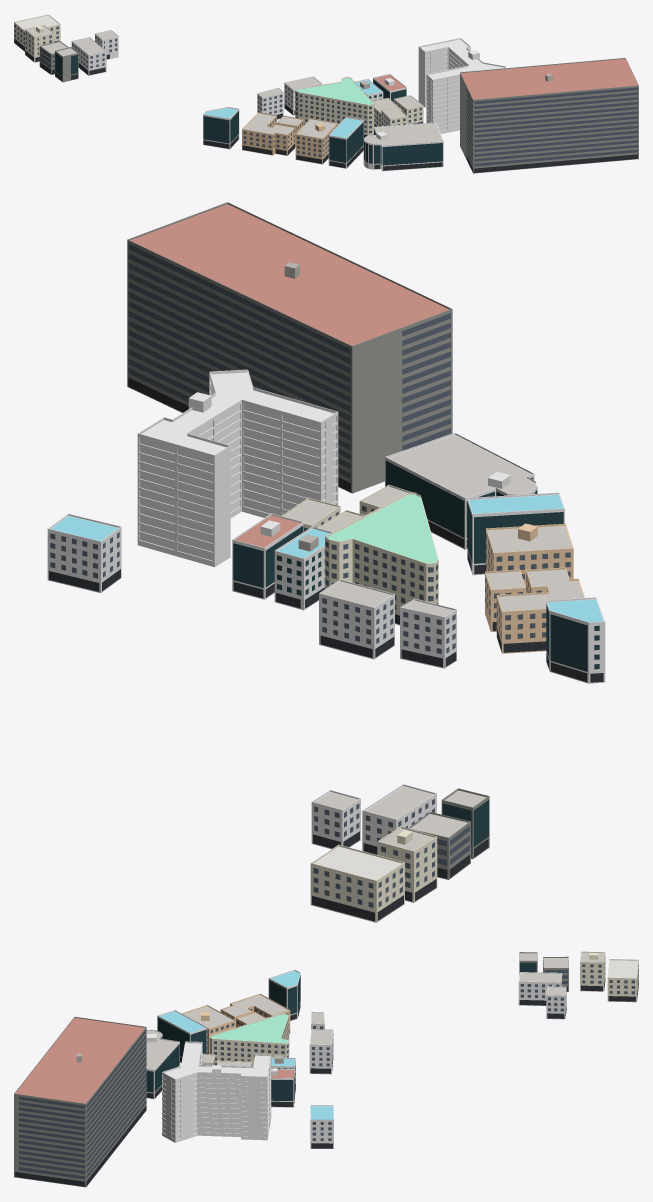
3 renders of one model, top to bottom at view 1: azimuth 30°, elevation 25°; view 2: azimuth 150°, elevation 25°; view 3: azimuth 270°, elevation 25°, orthographic. The views are drawn at different scales.
Parts seen in each view (by area): view 1: a3_s; view 2: a3_s; view 3: a3_s.
Part boxes in pixels (bbox=[...]): a3_s: bbox=[14, 14, 638, 173]; a3_s: bbox=[47, 202, 605, 922]; a3_s: bbox=[14, 951, 638, 1187].
Bounding box in the file's own units: 245 × 48.9 × 313.
